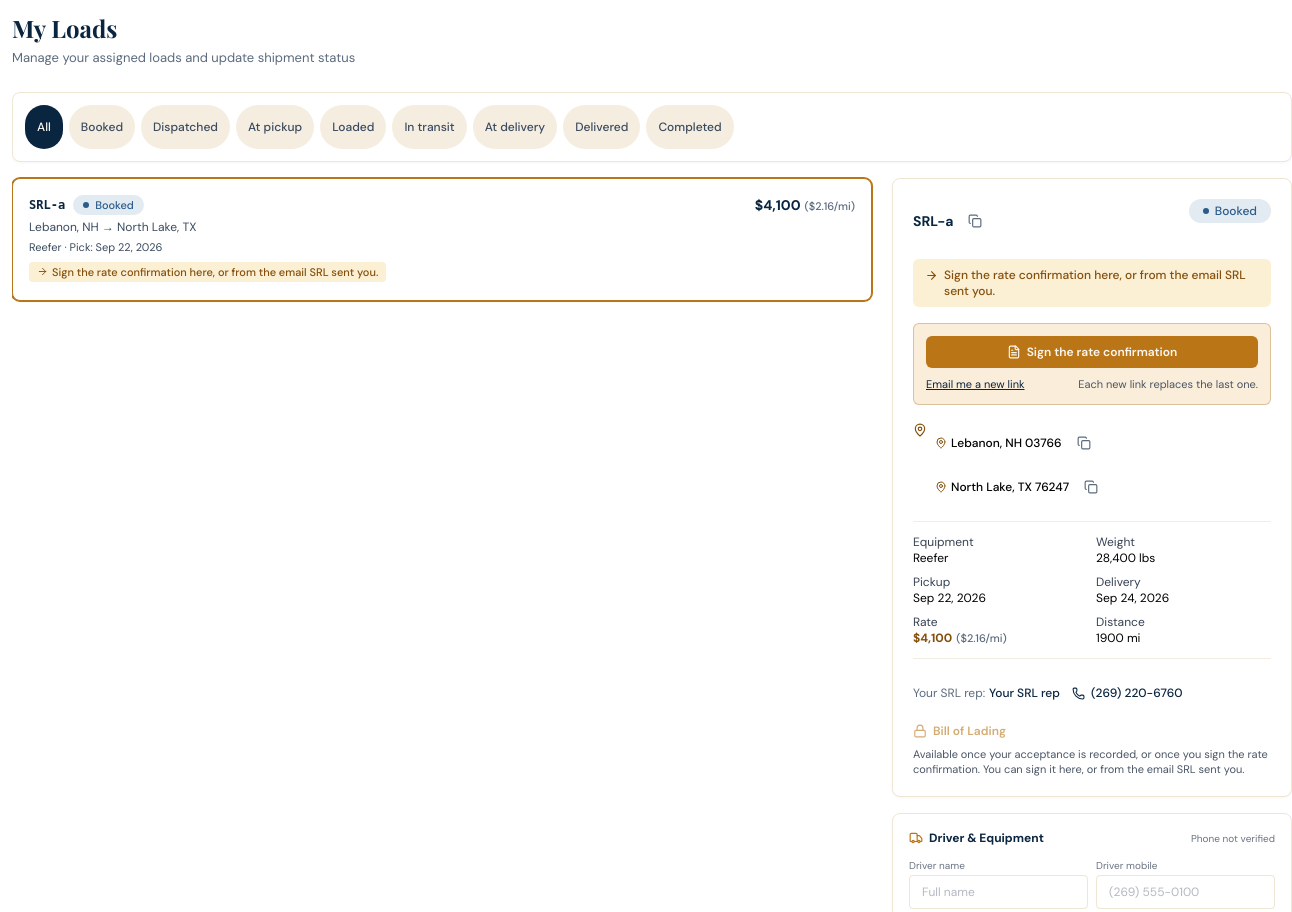
Scenario: E3 — signing from the portal, at RC_SENT and nowhere else › Email me a new link posts to the email route with NO address, and shows where the server sent it
The width and height of the screenshot is (1292, 912).
Click the button with test id "rc-sign-email".
click(975, 384)  # box [926, 376, 1024, 392]
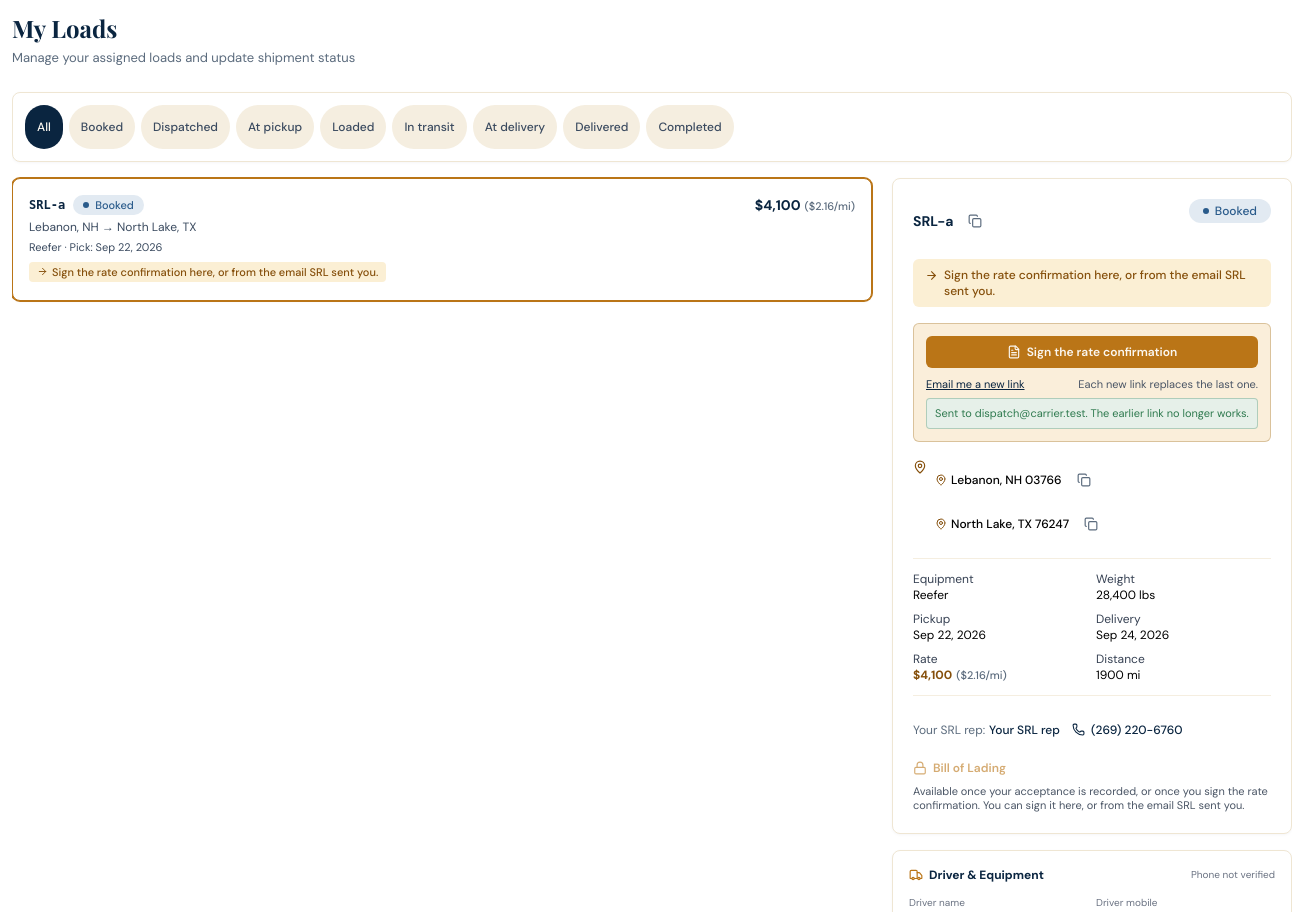
Expected: the text with test id "rc-sign-email-result" shows "Sent to dispatch@carrier.test", [926, 398, 1258, 428]
